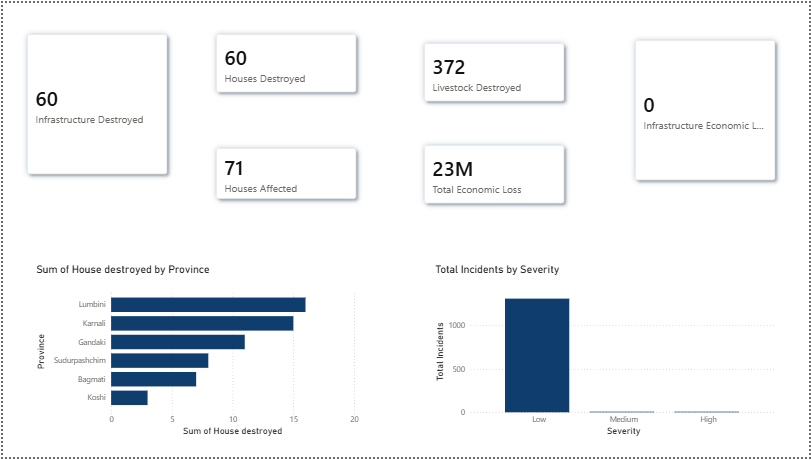

The dashboard page shown, as its layout file describes it:
{"tool":"powerbi","page":{"name":"Infrastructure & Severity","canvas":[1280,720],"ordinal":3},"visuals":[{"type":"cardVisual","fields":{"Data":["Dim_Date.Infrastructure Destroyed"]},"box":[10,20,280,280],"z":0},{"type":"cardVisual","fields":{"Data":["Dim_Date.Houses Affected"]},"box":[310,201.7,280,138.3],"z":1000},{"type":"cardVisual","fields":{"Data":["Dim_Date.Houses Destroyed"]},"box":[310,20,280,150],"z":2000},{"type":"cardVisual","fields":{"Data":["Dim_Date.Infrastructure Economic Loss"]},"box":[975,30,280,280],"z":3000},{"type":"cardVisual","fields":{"Data":["Dim_Date.Agriculture Loss"]},"box":[975,440,219.9,150.6],"z":4000},{"type":"cardVisual","fields":{"Data":["Dim_Date.Total Economic Loss"]},"box":[640,196.7,280,150],"z":5000},{"type":"cardVisual","fields":{"Data":["Dim_Date.Livestock Destroyed"]},"box":[640,35,280,150],"z":6000},{"type":"barChart","fields":{"Category":["incidents-wise.Province"],"Y":["Sum(incidents-wise.House destroyed)"]},"box":[48.3,413.3,521.7,280],"z":7000},{"type":"columnChart","fields":{"Category":["incidents-wise.Severity"],"Y":["Dim_Date.Total Incidents"]},"box":[681.7,413.3,551.7,280],"z":8000}]}

Visuals, with their boxes in screenshot pixels (x1, y1, x2, y2), scaled from the page's 1280x720 canvas onto the 811x460 screenshot:
cardVisual - Dim_Date.Infrastructure Destroyed: [6,13,184,192]
cardVisual - Dim_Date.Houses Affected: [196,129,374,217]
cardVisual - Dim_Date.Houses Destroyed: [196,13,374,109]
cardVisual - Dim_Date.Infrastructure Economic Loss: [618,19,795,198]
cardVisual - Dim_Date.Agriculture Loss: [618,281,757,377]
cardVisual - Dim_Date.Total Economic Loss: [406,126,583,222]
cardVisual - Dim_Date.Livestock Destroyed: [406,22,583,118]
barChart - incidents-wise.Province x Sum(incidents-wise.House destroyed): [31,264,361,443]
columnChart - incidents-wise.Severity x Dim_Date.Total Incidents: [432,264,781,443]
